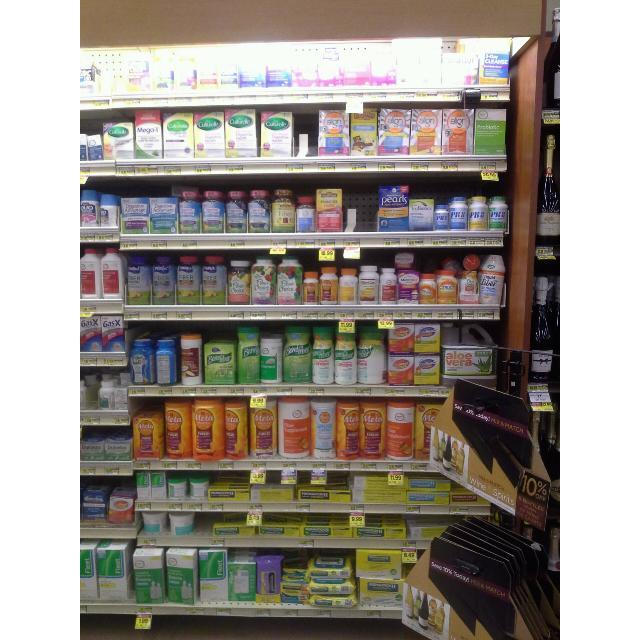empty: (342, 173, 378, 231), (292, 104, 318, 156)
